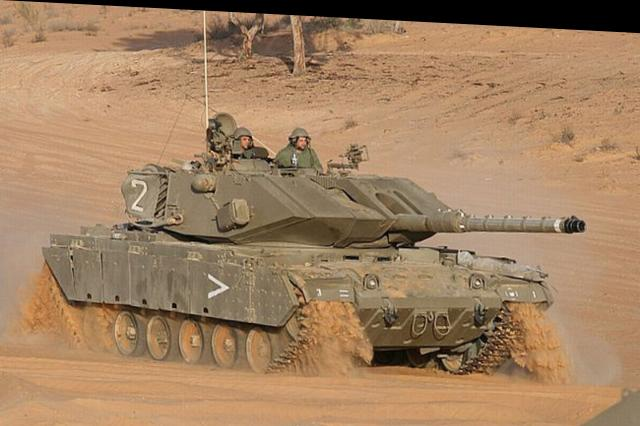other: (218, 112, 256, 162), (282, 118, 316, 169)
tank: (29, 153, 534, 363)
